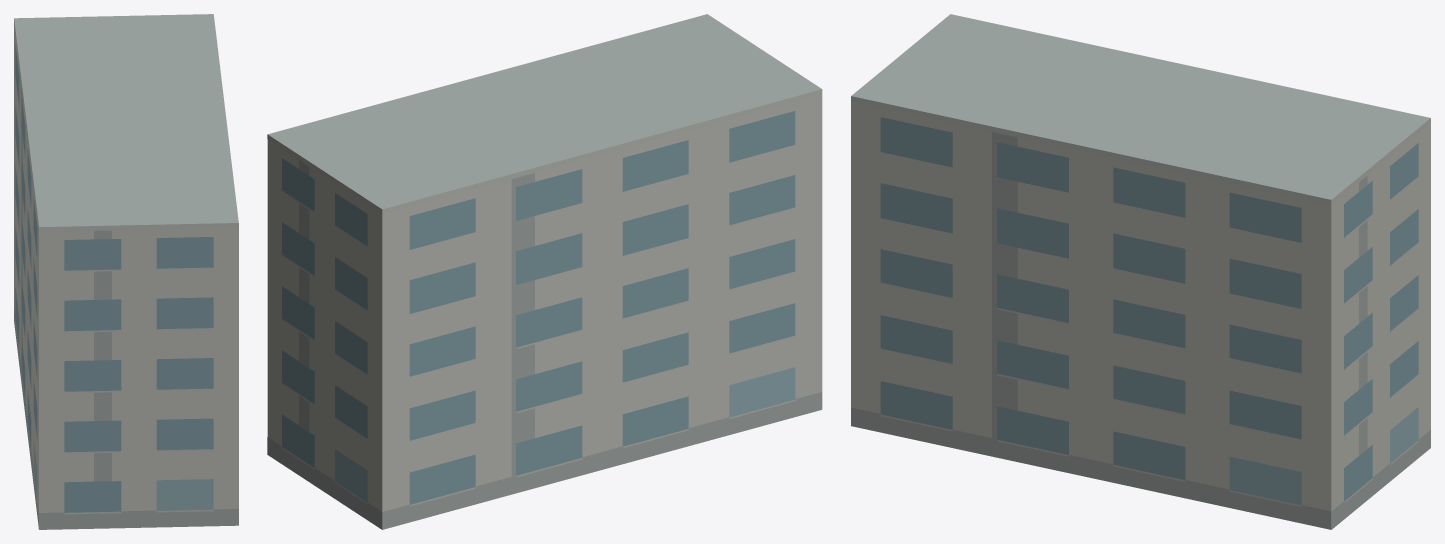
Rendered from residential-34b401f1-c05a-42c7-b1ba-e2b233f3dd58.glb.
3 views of the same model, side by side, from view 1: azimuth 30°, elevation 25°; view 2: azimuth 150°, elevation 25°; view 3: azimuth 270°, elevation 25° (orthographic). The views are drawn at different scales.
Parts seen in each view (by area): view 1: residential-34b401f1-c05a-42c7-b1ba-e2b233f3dd58.tmp; view 2: residential-34b401f1-c05a-42c7-b1ba-e2b233f3dd58.tmp; view 3: residential-34b401f1-c05a-42c7-b1ba-e2b233f3dd58.tmp.
Part boxes in pixels (x1=…): residential-34b401f1-c05a-42c7-b1ba-e2b233f3dd58.tmp: x1=14, y1=14, x2=238, y2=529; residential-34b401f1-c05a-42c7-b1ba-e2b233f3dd58.tmp: x1=267, y1=14, x2=822, y2=529; residential-34b401f1-c05a-42c7-b1ba-e2b233f3dd58.tmp: x1=851, y1=14, x2=1430, y2=529.
Bounding box in the file's own units: 18.43 × 15.25 × 24.29.
